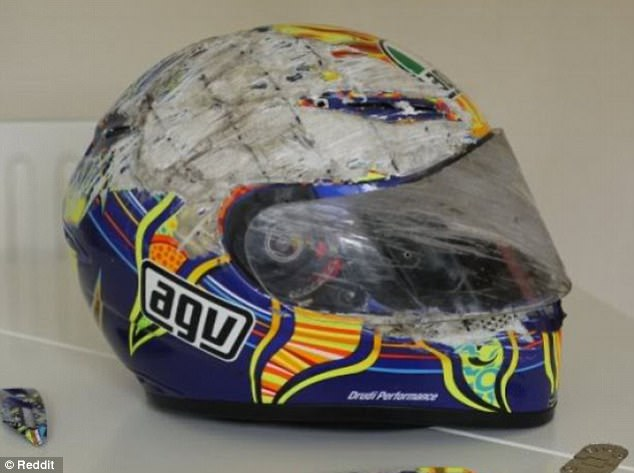with_helmet: (58, 20, 589, 434)
